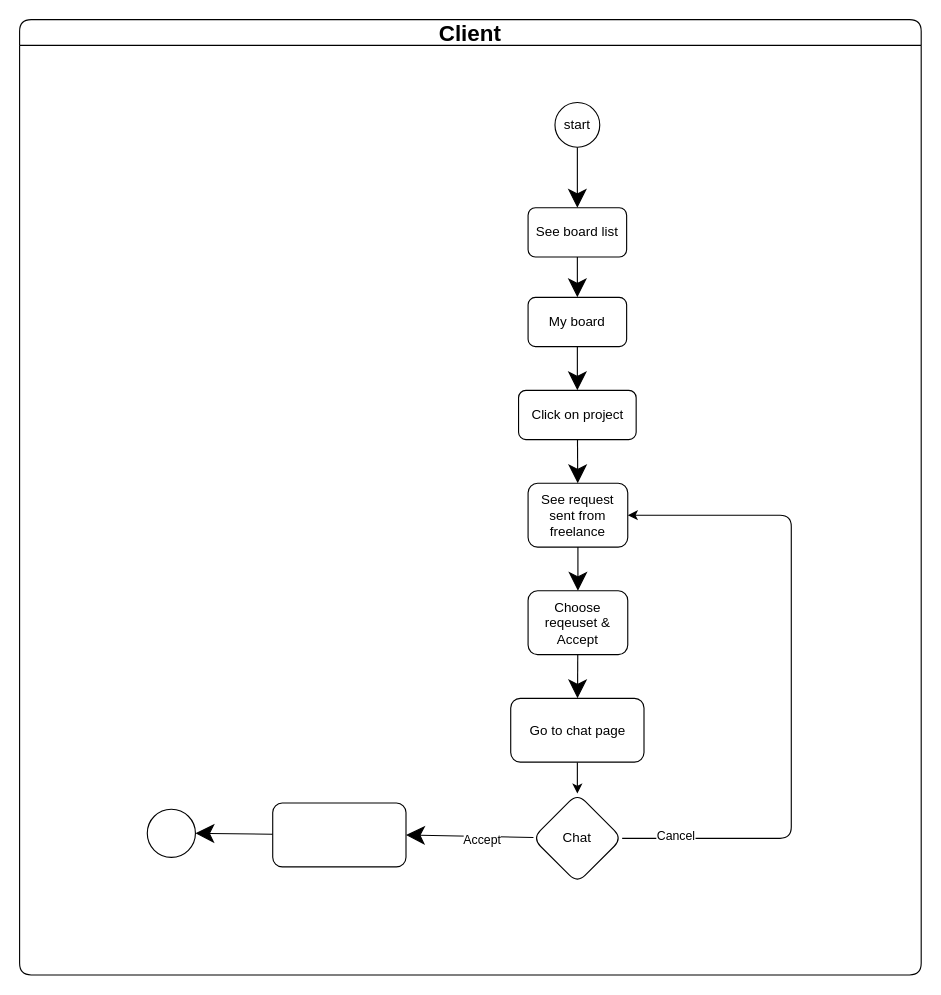
The diagram is 941 pixels wide and 995 high, and some of its shapes have lost their labels. The shapes that lost their labels are listed below. From the top down, each one's centre as x and y in pixels, then its label:
the point at 170,832: End
the point at 339,834: Making contract
